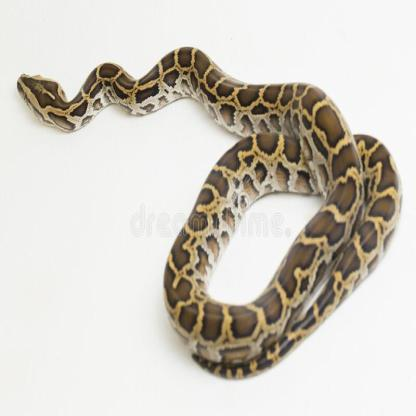Snake: (15, 43, 403, 378)
